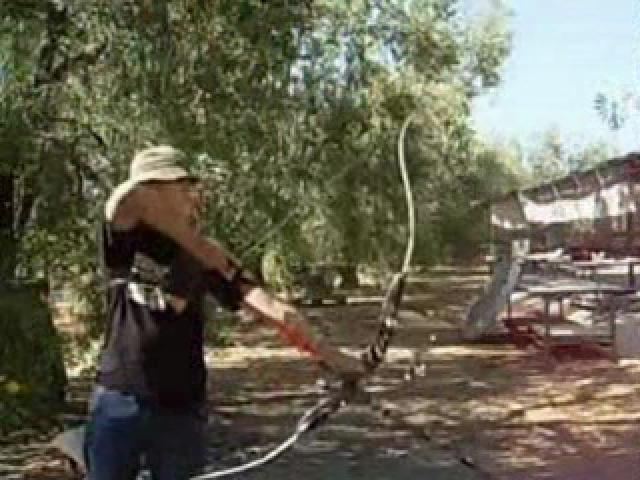I: (73, 142, 372, 479)
